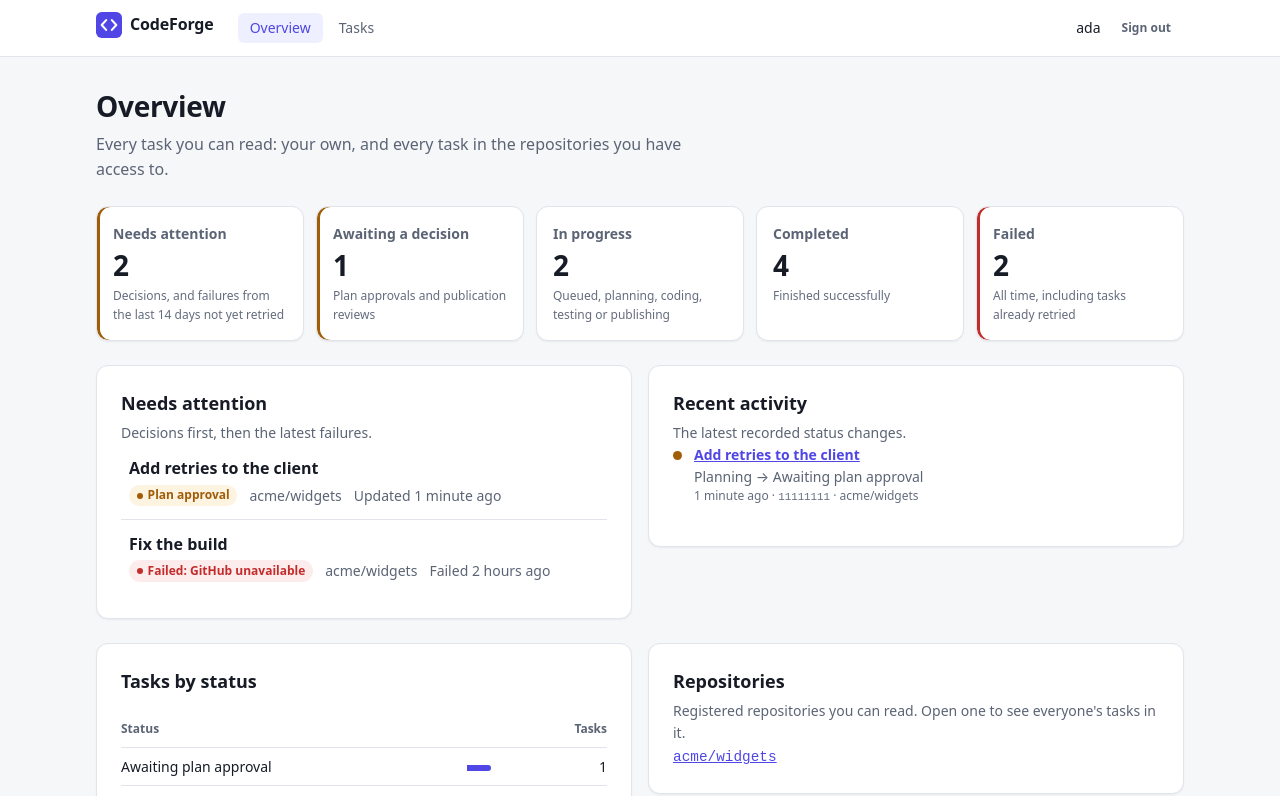
overview › opens the matching list from a number
What coordinates should you click on to do the following:
click the text "Failed"
I would click on:
 (1014, 233)
Its box is [993, 224, 1035, 243].
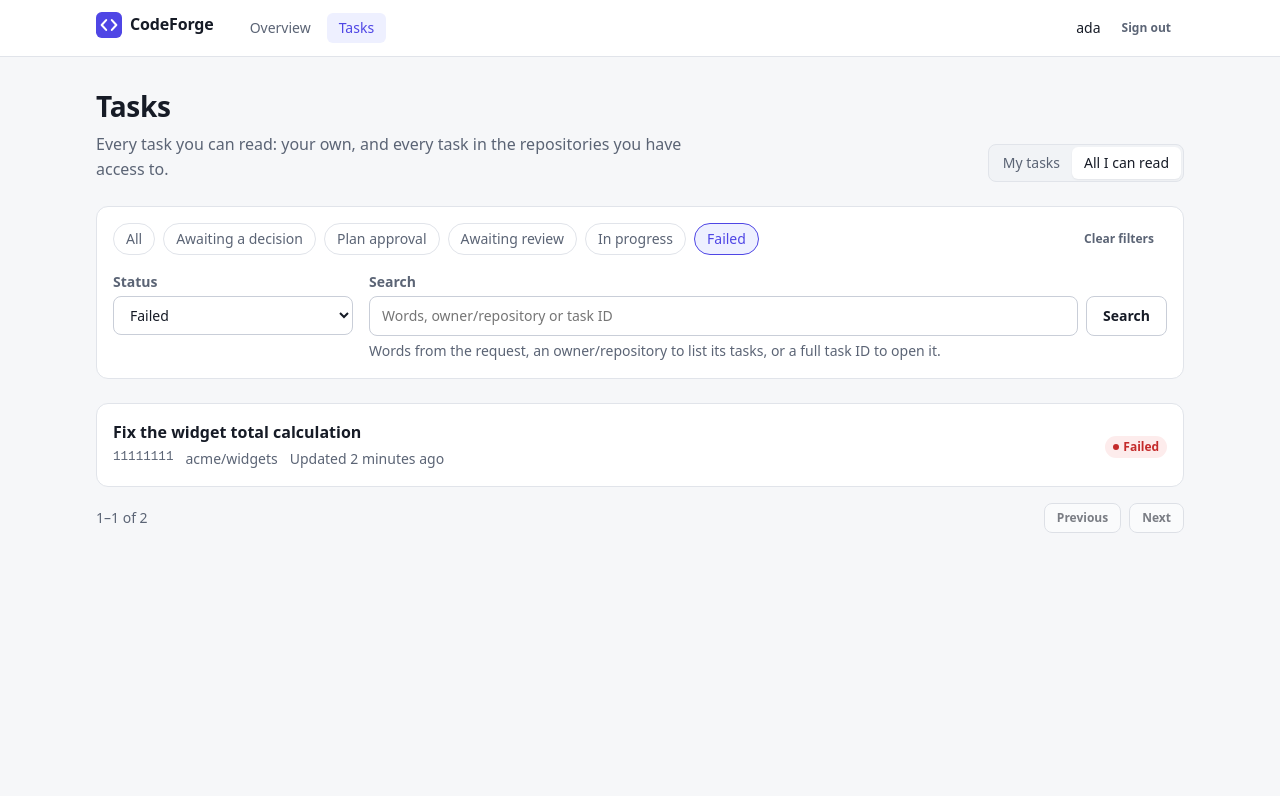
Result: the heading "Tasks" is shown at [96, 87, 171, 125]
